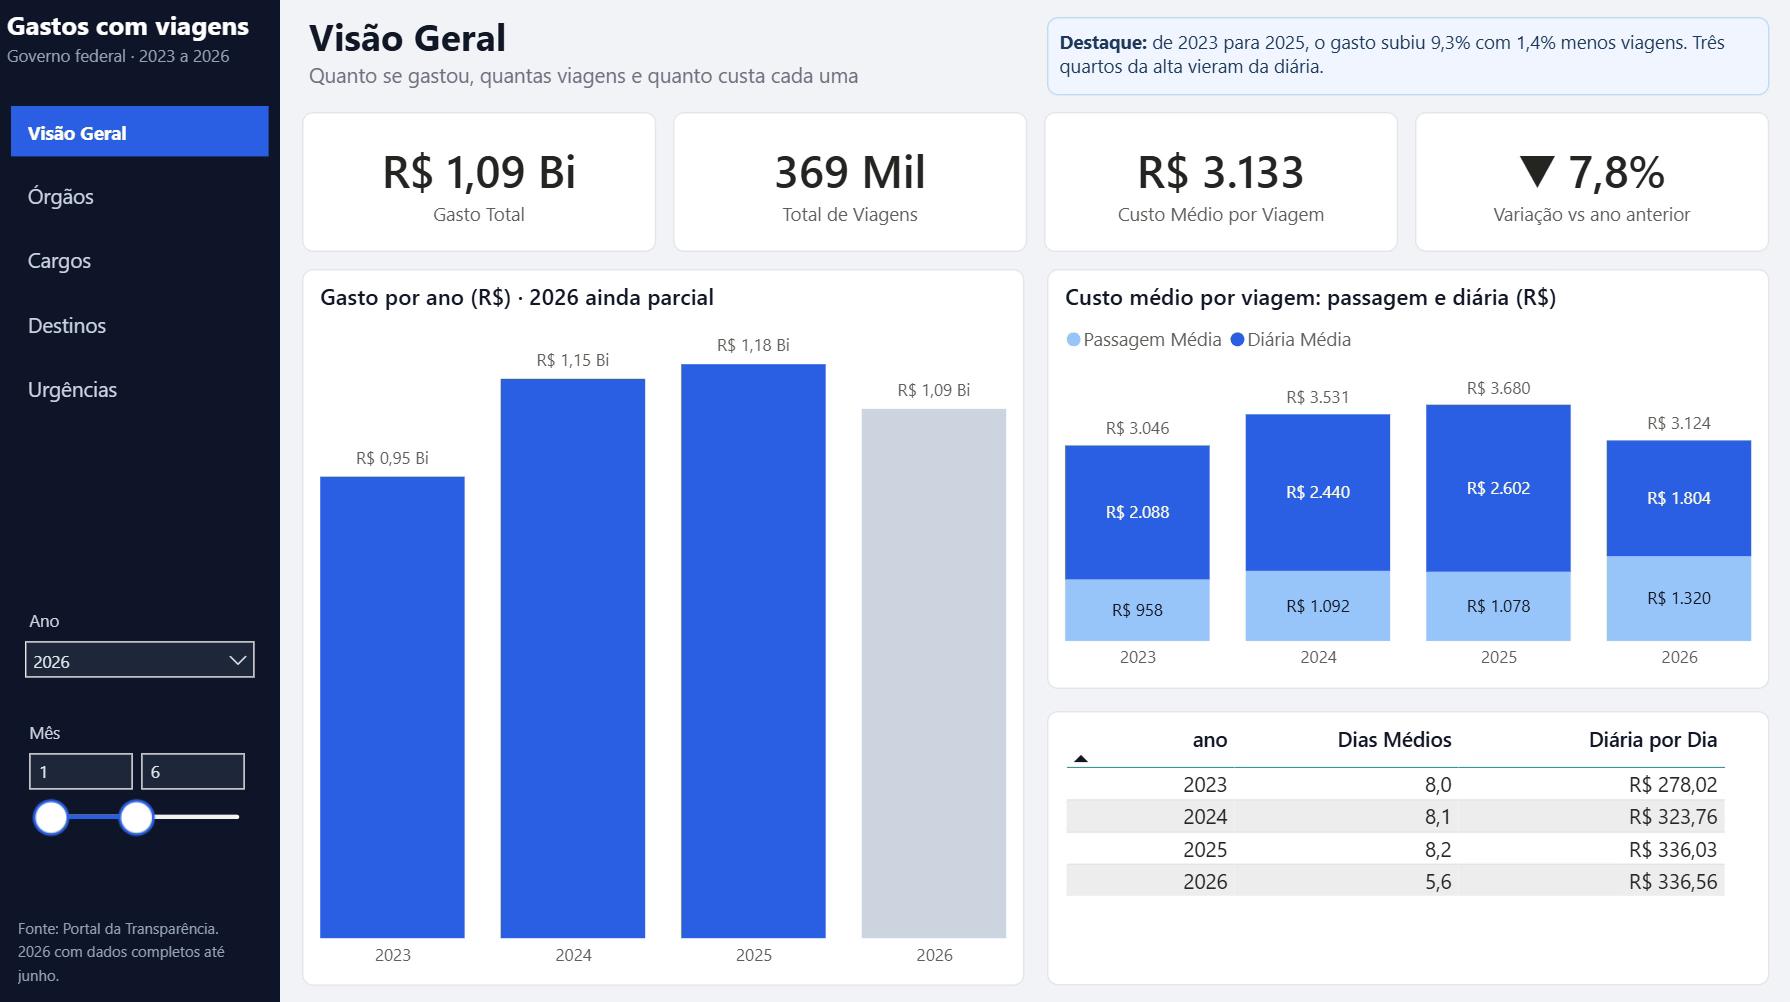

The page's visual inventory and layout, read from the dashboard file:
{"tool":"powerbi","page":{"name":"Visão Geral","canvas":[1280,720],"ordinal":0},"visuals":[{"type":"slicer","fields":{"Values":["dim_periodo.ano"]},"box":[648.2,0,314.8,88.2],"z":0},{"type":"slicer","fields":{"Values":["dim_periodo.mes"]},"box":[965.2,0,314.8,88.2],"z":1000},{"type":"cardVisual","fields":{"Data":["resumo_mensal.Gasto Total"]},"box":[49,103.4,234.5,149.2],"z":2000},{"type":"cardVisual","fields":{"Data":["resumo_mensal.Total de Viagens"]},"box":[363.4,103.4,234.5,149.2],"z":3000},{"type":"cardVisual","fields":{"Data":["resumo_mensal.Custo Médio por Viagem"]},"box":[677.8,103.4,247.3,149.2],"z":4000},{"type":"cardVisual","fields":{"Data":["resumo_mensal.Variação vs Ano Anterior"]},"box":[1005,103.4,234.5,149.2],"z":5000},{"type":"clusteredColumnChart","title":"Gasto por ano (R$)","fields":{"Category":["dim_periodo.ano"],"Y":["resumo_mensal.Gasto Total"]},"box":[7.6,262.5,628.6,446.6],"z":6000},{"type":"columnChart","title":"Custo médio por viagem: passagem e diária (R$)","fields":{"Category":["dim_periodo.ano"],"Y":["resumo_mensal.Passagem Média","resumo_mensal.Diária Média"]},"box":[647.1,262.5,619.8,284.3],"z":7000},{"type":"tableEx","fields":{"Values":["dim_periodo.ano","resumo_mensal.Dias Médios","resumo_mensal.Diária por Dia"]},"box":[648.2,558.8,618.8,130.7],"z":8000},{"type":"textbox","box":[0,14.2,648.2,74.1],"z":10000}]}

Visuals, with their boxes on the page's 1280x720 design canvas (x1, y1, x2, y2). These are canvas units, not pixel positions in the 1790x1002 screenshot, which may show the page scaled, cropped or inside an application window:
slicer - dim_periodo.ano: {"x1": 648, "y1": 0, "x2": 963, "y2": 88}
slicer - dim_periodo.mes: {"x1": 965, "y1": 0, "x2": 1280, "y2": 88}
cardVisual - resumo_mensal.Gasto Total: {"x1": 49, "y1": 103, "x2": 284, "y2": 253}
cardVisual - resumo_mensal.Total de Viagens: {"x1": 363, "y1": 103, "x2": 598, "y2": 253}
cardVisual - resumo_mensal.Custo Médio por Viagem: {"x1": 678, "y1": 103, "x2": 925, "y2": 253}
cardVisual - resumo_mensal.Variação vs Ano Anterior: {"x1": 1005, "y1": 103, "x2": 1240, "y2": 253}
"Gasto por ano (R$)" clusteredColumnChart: {"x1": 8, "y1": 262, "x2": 636, "y2": 709}
"Custo médio por viagem: passagem e diária (R$)" columnChart: {"x1": 647, "y1": 262, "x2": 1267, "y2": 547}
tableEx - dim_periodo.ano x resumo_mensal.Dias Médios: {"x1": 648, "y1": 559, "x2": 1267, "y2": 690}
textbox: {"x1": 0, "y1": 14, "x2": 648, "y2": 88}
